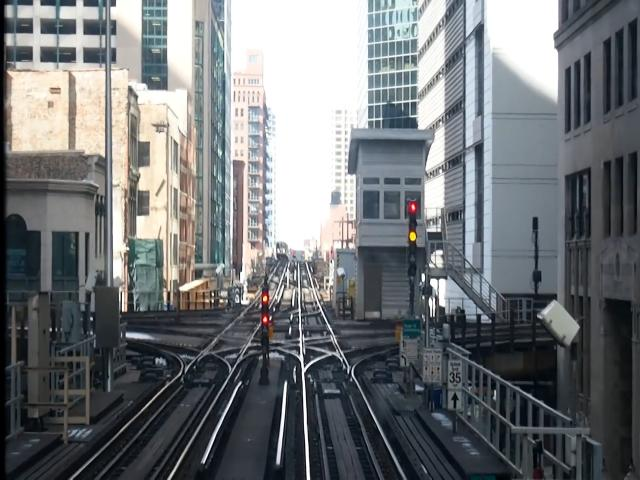signal light: (408, 200, 420, 282), (260, 286, 273, 353)
